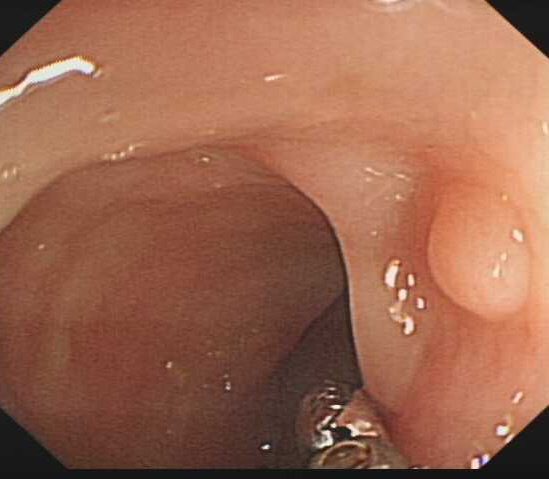others: (423, 185, 534, 322)
